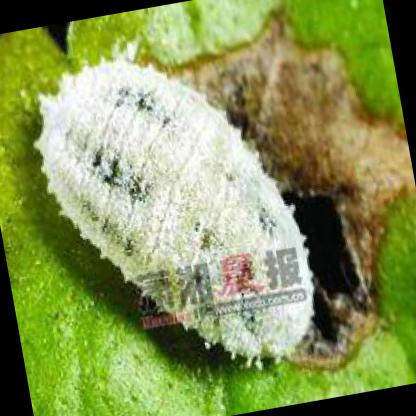mealy bug: (37, 59, 313, 358)
